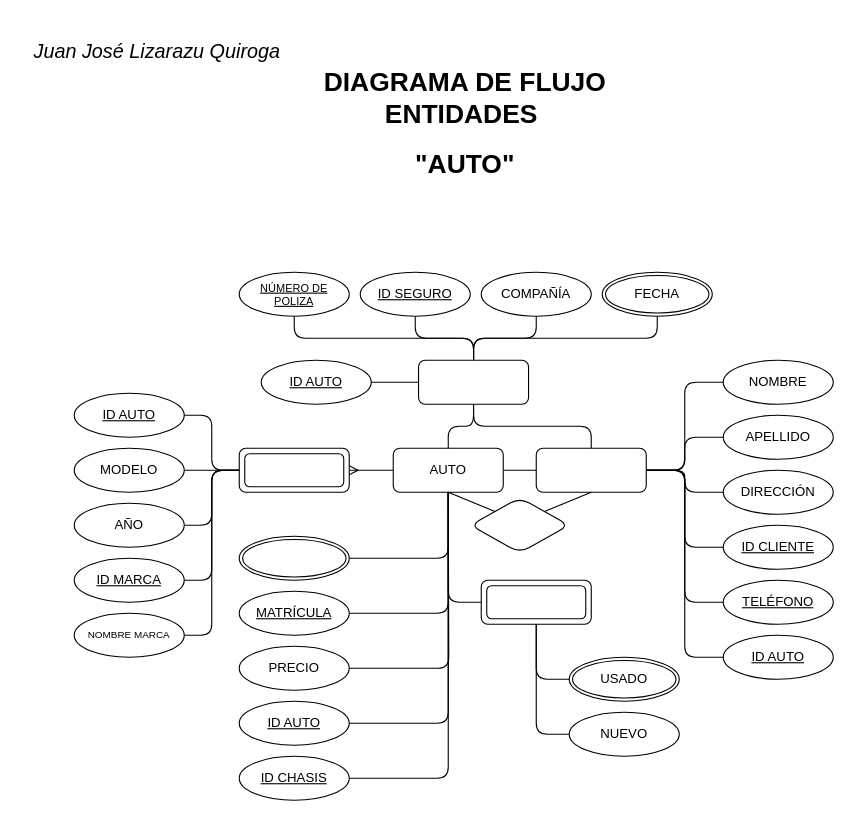
The diagram is 853 pixels wide and 820 high, and some of its shapes have lost their labels. Each missing label, with the centre of its shape:
COLOR: (293,557)
COMPRA: (519,525)
ESTADO: (535,601)
MARCA: (293,469)
PROPIETARIO: (590,469)
SEGURO: (473,381)
